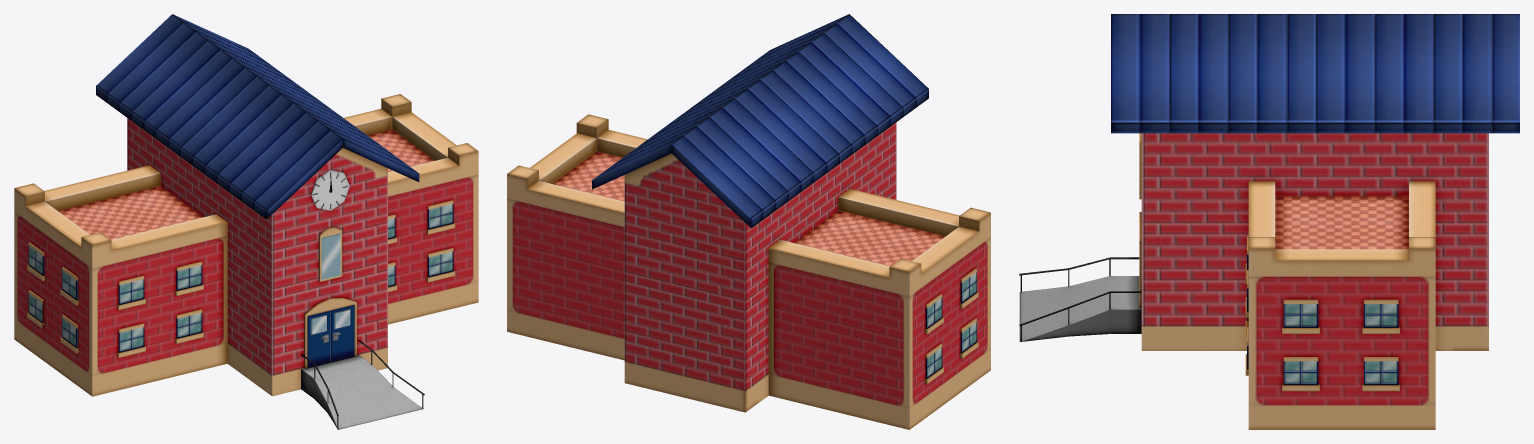
File: school.fbx
3 renders of one model, left to right at view 1: azimuth 30°, elevation 25°; view 2: azimuth 150°, elevation 25°; view 3: azimuth 270°, elevation 25°, orthographic. The views are drawn at different scales.
Parts seen in each view (by area): view 1: school_building_geo, right_door_geo, left_door_geo; view 2: school_building_geo; view 3: school_building_geo.
Boxes of the visible parts, left/top/right/bottom form: school_building_geo: left=14, top=14, right=478, bottom=429; right_door_geo: left=331, top=305, right=354, bottom=362; left_door_geo: left=307, top=310, right=330, bottom=368; school_building_geo: left=507, top=14, right=990, bottom=429; school_building_geo: left=1019, top=14, right=1519, bottom=429.
Bounding box in the file's own units: 20.23 × 12.52 × 18.74.
1 material, 1 textured.
